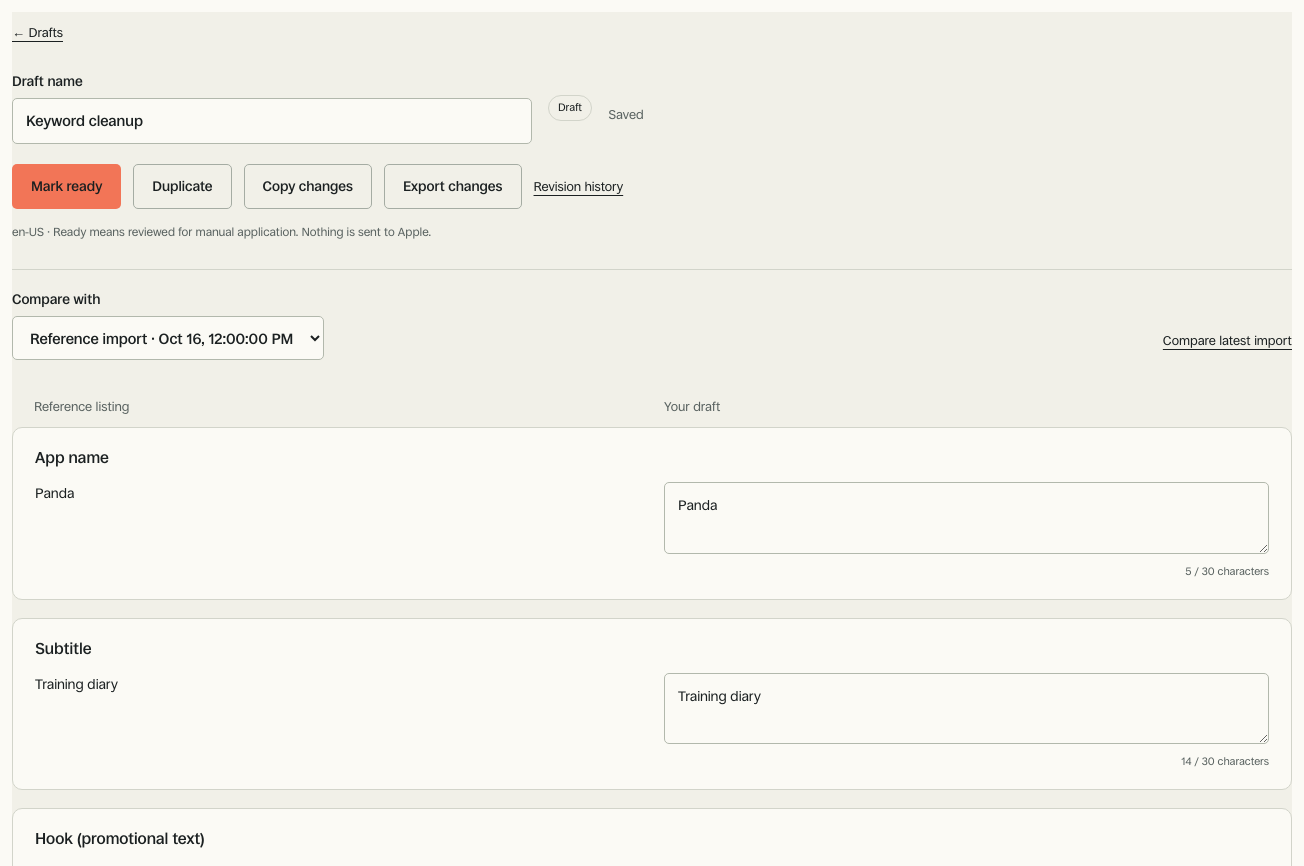
Test: marks saved text ready separately and shows edits as a draft again
Click the button "Mark ready" at x=67, y=186, box [12,164,121,209]
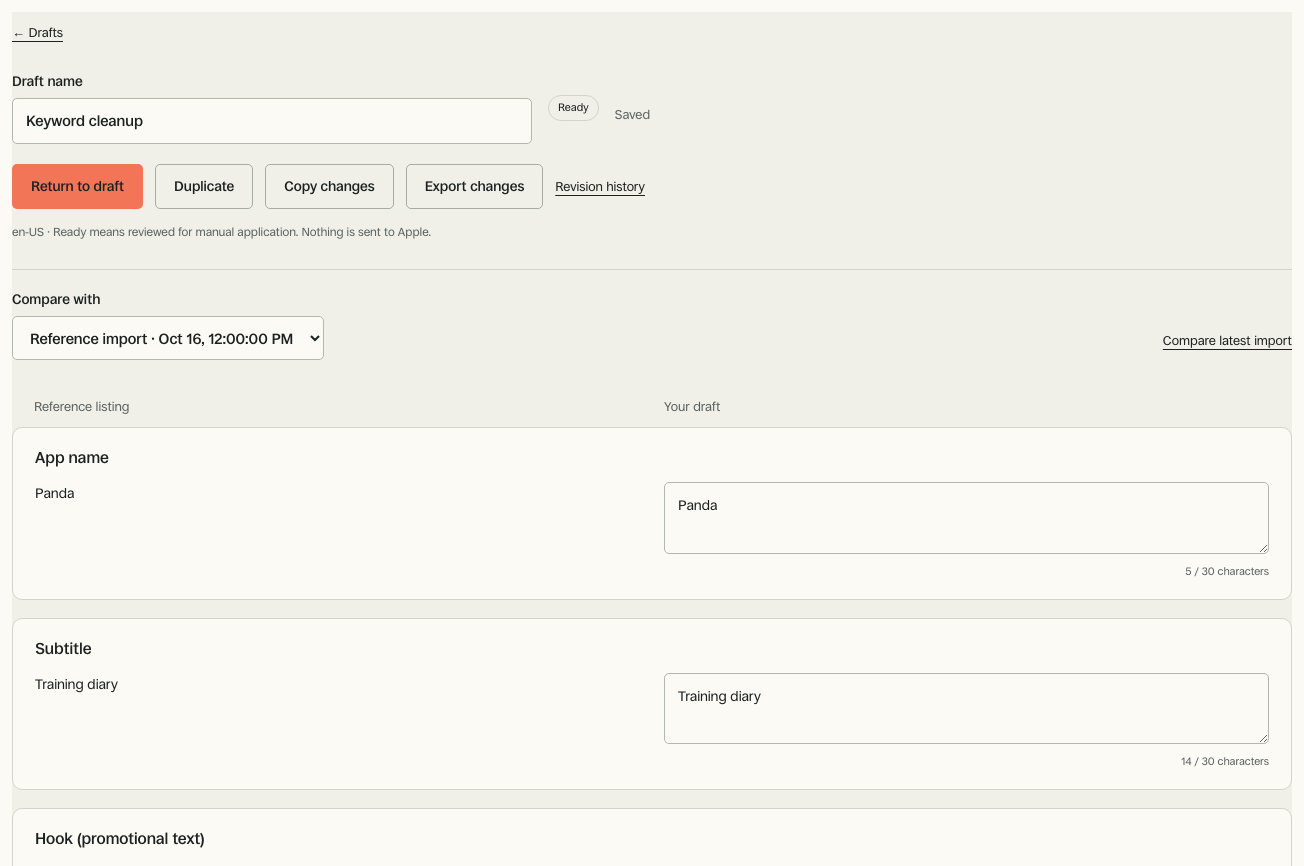
Expected: the button "Return to draft" is shown, [12,164,143,209]
Replace the text in the text box named "Draft Subtitle" with "Updated" at x=966, y=709, box [664,673,1269,744]
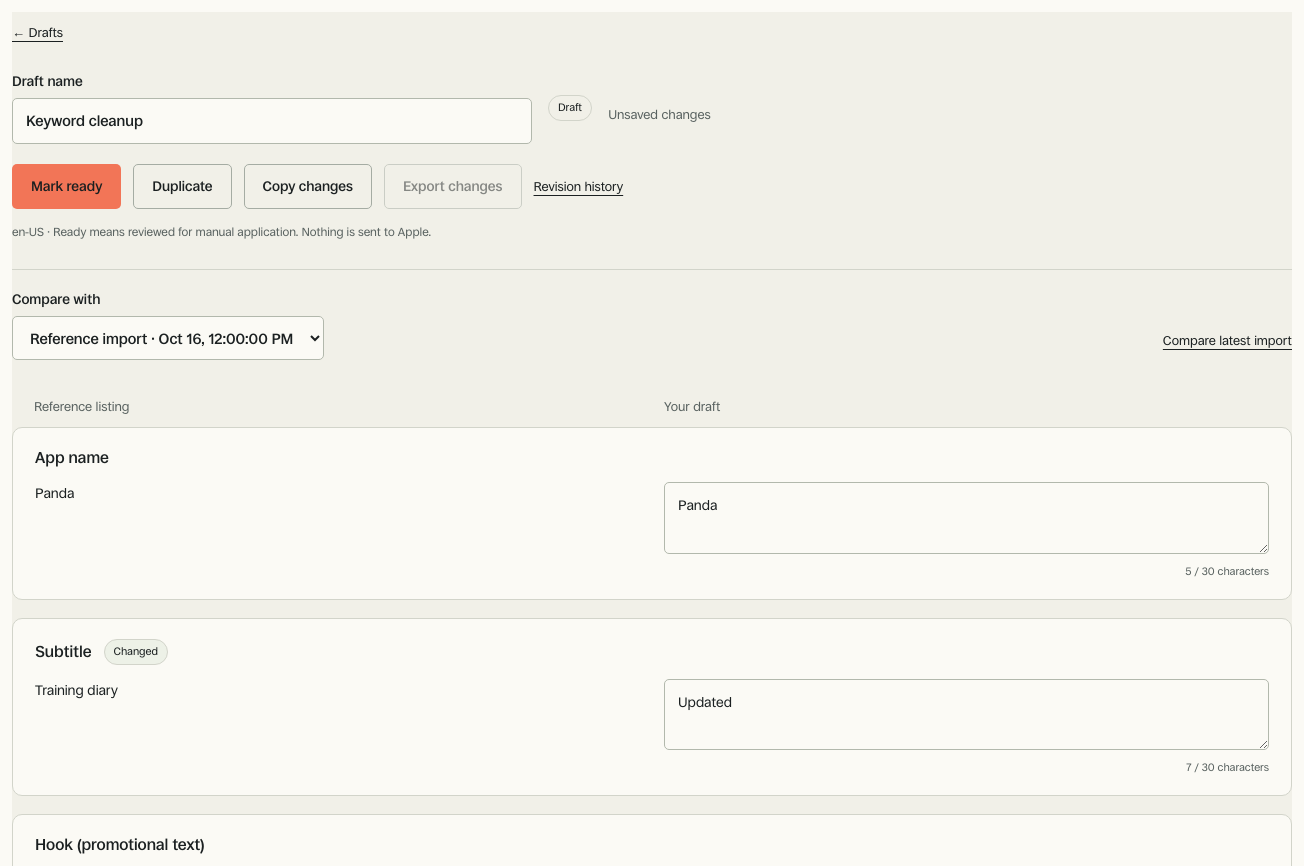
Expected: the button "Mark ready" is shown, [12,164,121,209]
